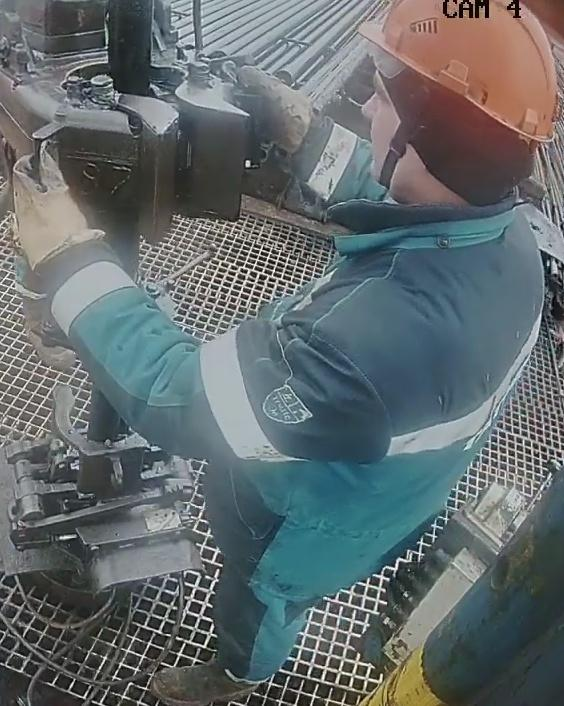gloves: (7, 153, 106, 291), (234, 63, 328, 162)
helmet: (356, 0, 559, 143)
vest: (197, 192, 548, 598)
